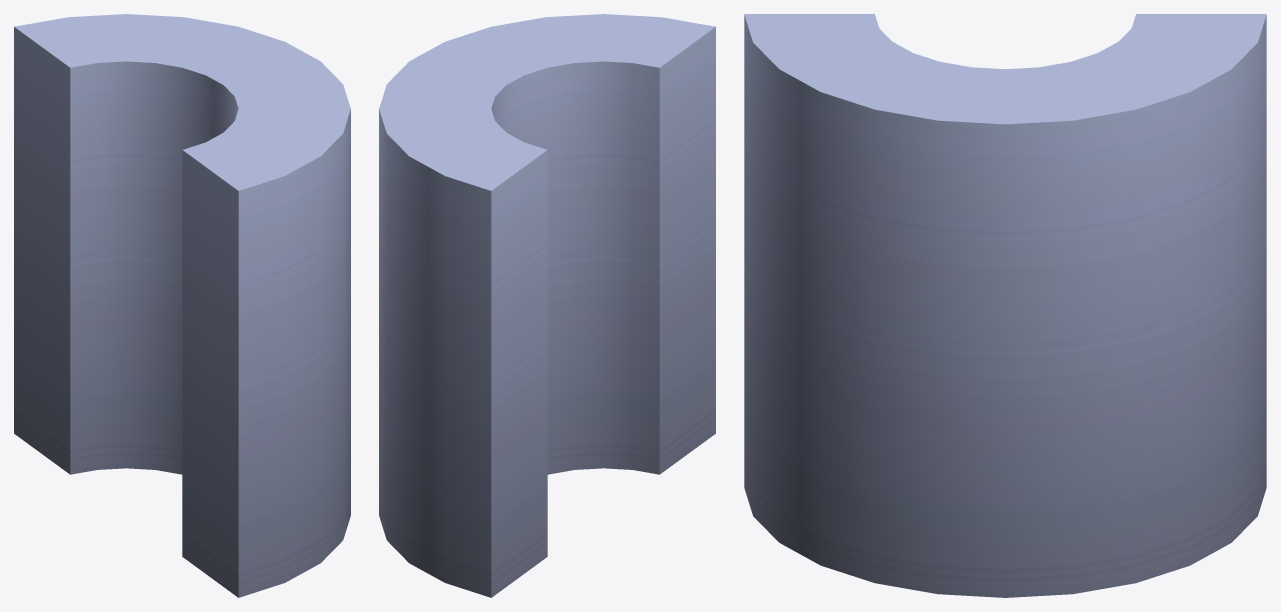
File: shape-hollow-cylinder-half-detailed.glb
3 views of the same model, side by side, from view 1: azimuth 30°, elevation 25°; view 2: azimuth 150°, elevation 25°; view 3: azimuth 270°, elevation 25° (orthographic). The views are drawn at different scales.
Parts seen in each view (by area): view 1: shape-hollow-cylinder-half-detailed; view 2: shape-hollow-cylinder-half-detailed; view 3: shape-hollow-cylinder-half-detailed.
Part boxes in pixels (left/top/right/bottom): shape-hollow-cylinder-half-detailed: left=14, top=14, right=350, bottom=597; shape-hollow-cylinder-half-detailed: left=379, top=14, right=715, bottom=597; shape-hollow-cylinder-half-detailed: left=744, top=14, right=1266, bottom=597.
Bounding box in the file's own units: 0.5001 × 1 × 1.
Materials: 1 (1 with a texture image).
